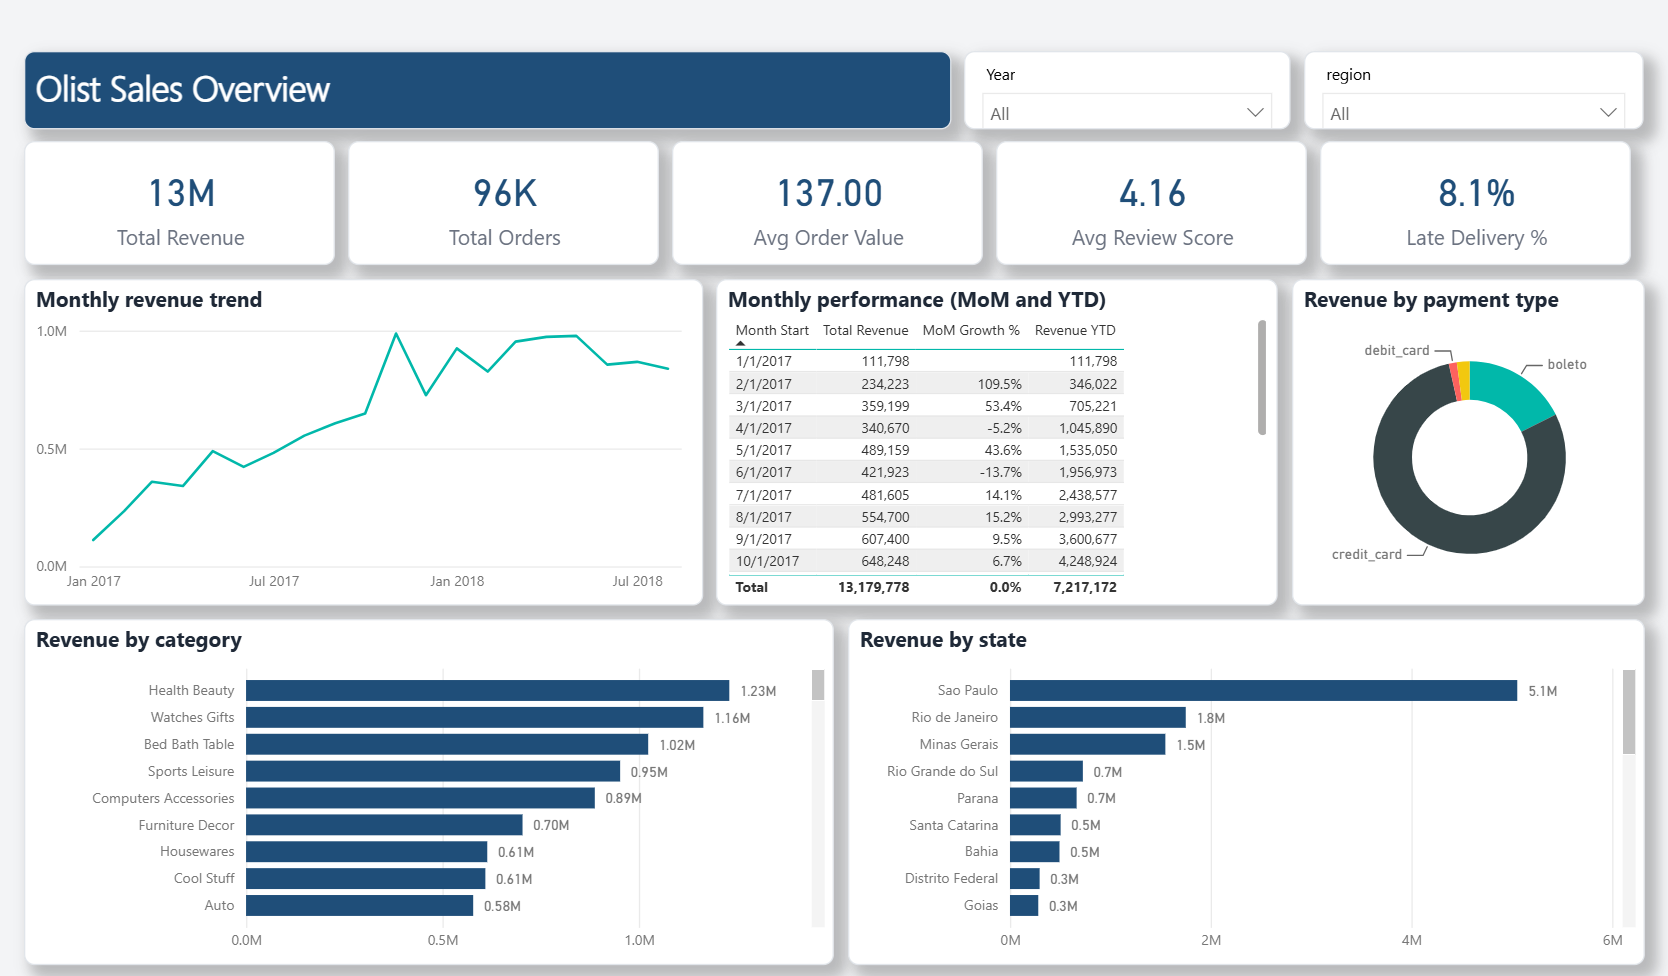

The page's visual inventory and layout, read from the dashboard file:
{"tool":"powerbi","page":{"name":"Sales Overview","canvas":[1280,720],"ordinal":0},"visuals":[{"type":"textbox","box":[20,10,710,60],"z":0},{"type":"slicer","fields":{"Values":["Date.Year"]},"box":[740,10,250,60],"z":1000},{"type":"slicer","fields":{"Values":["State.region"]},"box":[1000,10,260,60],"z":2000},{"type":"card","fields":{"Values":["Orders.Total Revenue"]},"box":[20,80,238,95],"z":3000},{"type":"card","fields":{"Values":["Orders.Total Orders"]},"box":[268,80,238,95],"z":4000},{"type":"card","fields":{"Values":["Orders.Avg Order Value"]},"box":[516,80,238,95],"z":5000},{"type":"card","fields":{"Values":["Orders.Avg Review Score"]},"box":[764,80,238,95],"z":6000},{"type":"card","fields":{"Values":["Orders.Late Delivery %"]},"box":[1012,80,238,95],"z":7000},{"type":"lineChart","title":"Monthly revenue trend","fields":{"Category":["Date.Month Start"],"Y":["Orders.Total Revenue"]},"box":[20,185,520,250],"z":8000},{"type":"tableEx","title":"Monthly performance (MoM and YTD)","fields":{"Values":["Date.Month Start","Orders.Total Revenue","Orders.MoM Growth %","Orders.Revenue YTD"]},"box":[550,185,430,250],"z":9000},{"type":"donutChart","title":"Revenue by payment type","fields":{"Category":["Orders.payment_type"],"Y":["Orders.Total Revenue"]},"box":[990,185,270,250],"z":10000},{"type":"clusteredBarChart","title":"Revenue by category","fields":{"Category":["Orders.category"],"Y":["Orders.Total Revenue"]},"box":[20,445,620,265],"z":11000},{"type":"clusteredBarChart","title":"Revenue by state","fields":{"Category":["State.state_name"],"Y":["Orders.Total Revenue"]},"box":[650,445,610,265],"z":12000}]}

Visuals, with their boxes on the page's 1280x720 design canvas (x1, y1, x2, y2). These are canvas units, not pixel positions in the 1668x976 screenshot, which may show the page scaled, cropped or inside an application window:
textbox: <bbox>20, 10, 730, 70</bbox>
slicer - Date.Year: <bbox>740, 10, 990, 70</bbox>
slicer - State.region: <bbox>1000, 10, 1260, 70</bbox>
card - Orders.Total Revenue: <bbox>20, 80, 258, 175</bbox>
card - Orders.Total Orders: <bbox>268, 80, 506, 175</bbox>
card - Orders.Avg Order Value: <bbox>516, 80, 754, 175</bbox>
card - Orders.Avg Review Score: <bbox>764, 80, 1002, 175</bbox>
card - Orders.Late Delivery %: <bbox>1012, 80, 1250, 175</bbox>
"Monthly revenue trend" lineChart: <bbox>20, 185, 540, 435</bbox>
"Monthly performance (MoM and YTD)" tableEx: <bbox>550, 185, 980, 435</bbox>
"Revenue by payment type" donutChart: <bbox>990, 185, 1260, 435</bbox>
"Revenue by category" clusteredBarChart: <bbox>20, 445, 640, 710</bbox>
"Revenue by state" clusteredBarChart: <bbox>650, 445, 1260, 710</bbox>
